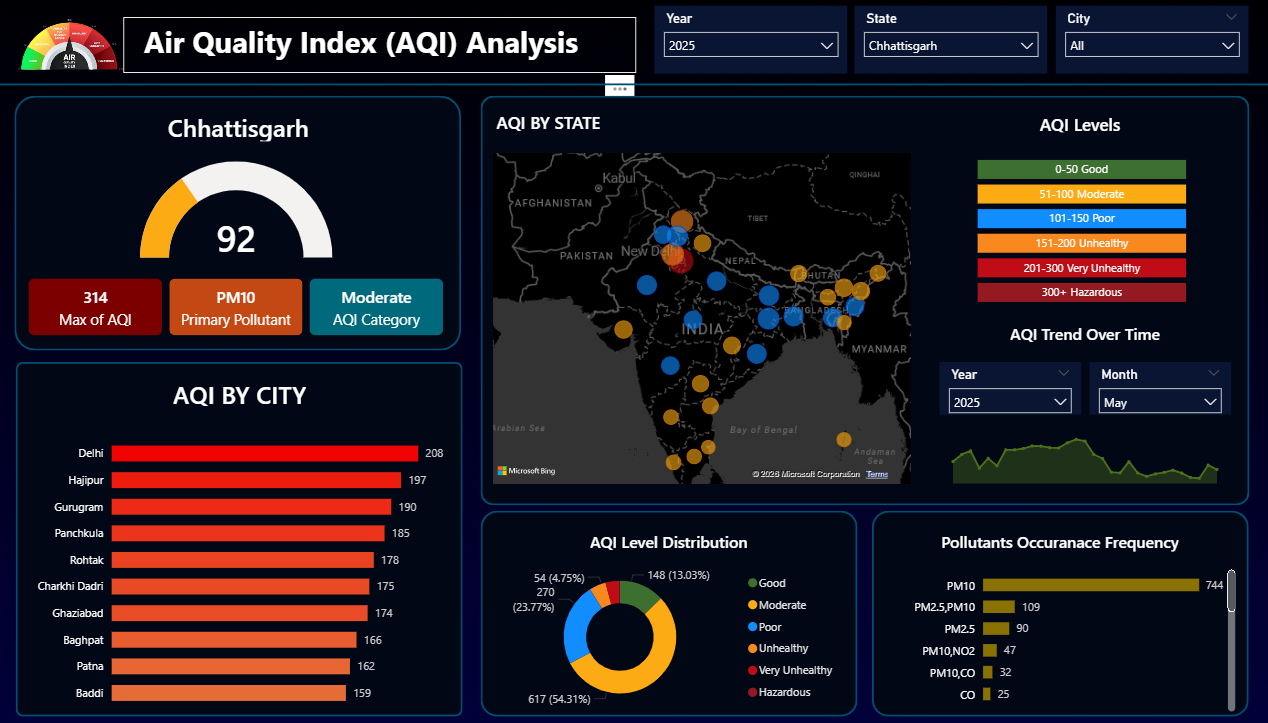

The page's visual inventory and layout, read from the dashboard file:
{"tool":"powerbi","page":{"name":"AQI Analysis","canvas":[1400,800],"ordinal":0},"visuals":[{"type":"shape","box":[959,562.8,412.8,225.6],"z":0},{"type":"shape","box":[19.5,108.1,489.3,279.2],"z":1000},{"type":"textbox","box":[138.4,21.9,561.6,61.6],"z":2000},{"type":"gauge","fields":{"Y":["day_wise_aqi_data.Avg AQI"]},"box":[112.8,175.6,300,115.4],"z":3000},{"type":"slicer","fields":{"Values":["Calendar.Year"]},"box":[721,9,211.5,74.4],"z":4000},{"type":"slicer","fields":{"Values":["day_wise_aqi_data.state"]},"box":[940,9,211.5,74.4],"z":5000},{"type":"slicer","fields":{"Values":["day_wise_aqi_data.area"]},"box":[1160.3,9,211.5,74.4],"z":6000},{"type":"cardVisual","fields":{"Data":["Max(day_wise_aqi_data.aqi_value)","day_wise_aqi_data.Primary Pollutant","day_wise_aqi_data.AQI Category KPI"]},"box":[18,291.2,490.8,96.1],"z":7000},{"type":"cardVisual","fields":{"Data":["day_wise_aqi_data.KPI Title"]},"box":[20.5,107.7,488.5,67.9],"z":8000},{"type":"shape","box":[529.5,107.7,842.3,448.7],"z":9000},{"type":"map","fields":{"Category":["day_wise_aqi_data.state"],"Size":["day_wise_aqi_data.Avg AQI"]},"box":[538.5,165.4,467.9,373.1],"z":10000},{"type":"cardVisual","fields":{"Data":["day_wise_aqi_data.StatewiseAQI"]},"box":[529.5,107.7,460.3,57.7],"z":11000},{"type":"barChart","fields":{"Category":["day_wise_aqi_data.AQI Category"],"Y":["day_wise_aqi_data.Label"]},"box":[1070.5,165.4,238.5,174.4],"z":12000},{"type":"cardVisual","fields":{"Data":["day_wise_aqi_data.AQILevels"]},"box":[1033.3,109,309,56.4],"z":13000},{"type":"areaChart","fields":{"Category":["Calendar.Date.Variation.Date Hierarchy.Day"],"Y":["day_wise_aqi_data.Avg AQI"]},"box":[1033.3,457.7,319.2,80.8],"z":14000},{"type":"slicer","fields":{"Values":["Calendar.Date.Variation.Date Hierarchy.Year"]},"box":[1033.3,400,155.1,57.7],"z":15000},{"type":"slicer","fields":{"Values":["Calendar.Date.Variation.Date Hierarchy.Month"]},"box":[1197.4,400,155.1,57.7],"z":16000},{"type":"cardVisual","fields":{"Data":["day_wise_aqi_data.MonthWiseTitle"]},"box":[1033.3,346.2,319.2,41],"z":17000},{"type":"shape","box":[20.5,400,489.7,388.5],"z":18000},{"type":"barChart","fields":{"Category":["day_wise_aqi_data.area"],"Y":["day_wise_aqi_data.Avg AQI"]},"box":[33.3,466.7,464.1,321.8],"z":19000},{"type":"cardVisual","fields":{"Data":["day_wise_aqi_data.Title_for_City"]},"box":[21.8,400,488.5,66.7],"z":20000},{"type":"shape","box":[529.5,562.8,412.8,225.6],"z":21000},{"type":"donutChart","fields":{"Category":["day_wise_aqi_data.AQI Category"],"Y":["day_wise_aqi_data.Count of rows"]},"box":[538.5,615.4,391,173.1],"z":22000},{"type":"cardVisual","fields":{"Data":["day_wise_aqi_data.Donut_Dstrbtn"]},"box":[530.1,563,412.3,65.8],"z":23000},{"type":"barChart","fields":{"Y":["day_wise_aqi_data.Count of rows"],"Category":["day_wise_aqi_data.prominent_pollutants"]},"box":[970.5,615.4,392.3,173.1],"z":24000},{"type":"cardVisual","fields":{"Data":["day_wise_aqi_data.Pollutant_title"]},"box":[958.9,563,412.3,65.8],"z":25000},{"type":"shape","box":[0,83.3,1400,24.4],"z":25001},{"type":"image","box":[20.5,9.6,117.8,74],"z":25002}]}

Visuals, with their boxes in screenshot pixels (x1, y1, x2, y2), scaled from the page's 1400x800 canvas onto the 1268x723 screenshot:
shape: (869,509,1242,713)
shape: (18,98,461,350)
textbox: (125,20,634,75)
gauge - day_wise_aqi_data.Avg AQI: (102,159,374,263)
slicer - Calendar.Year: (653,8,845,75)
slicer - day_wise_aqi_data.state: (851,8,1043,75)
slicer - day_wise_aqi_data.area: (1051,8,1242,75)
cardVisual - Max(day_wise_aqi_data.aqi_value) x day_wise_aqi_data.Primary Pollutant: (16,263,461,350)
cardVisual - day_wise_aqi_data.KPI Title: (19,97,461,159)
shape: (480,97,1242,503)
map - day_wise_aqi_data.state x day_wise_aqi_data.Avg AQI: (488,149,912,487)
cardVisual - day_wise_aqi_data.StatewiseAQI: (480,97,896,149)
barChart - day_wise_aqi_data.AQI Category x day_wise_aqi_data.Label: (970,149,1186,307)
cardVisual - day_wise_aqi_data.AQILevels: (936,99,1216,149)
areaChart - Calendar.Date.Variation.Date Hierarchy.Day x day_wise_aqi_data.Avg AQI: (936,414,1225,487)
slicer - Calendar.Date.Variation.Date Hierarchy.Year: (936,362,1076,414)
slicer - Calendar.Date.Variation.Date Hierarchy.Month: (1085,362,1225,414)
cardVisual - day_wise_aqi_data.MonthWiseTitle: (936,313,1225,350)
shape: (19,362,462,713)
barChart - day_wise_aqi_data.area x day_wise_aqi_data.Avg AQI: (30,422,451,713)
cardVisual - day_wise_aqi_data.Title_for_City: (20,362,462,422)
shape: (480,509,853,713)
donutChart - day_wise_aqi_data.AQI Category x day_wise_aqi_data.Count of rows: (488,556,842,713)
cardVisual - day_wise_aqi_data.Donut_Dstrbtn: (480,509,854,568)
barChart - day_wise_aqi_data.Count of rows x day_wise_aqi_data.prominent_pollutants: (879,556,1234,713)
cardVisual - day_wise_aqi_data.Pollutant_title: (868,509,1242,568)
shape: (0,75,1267,97)
image: (19,9,125,76)
